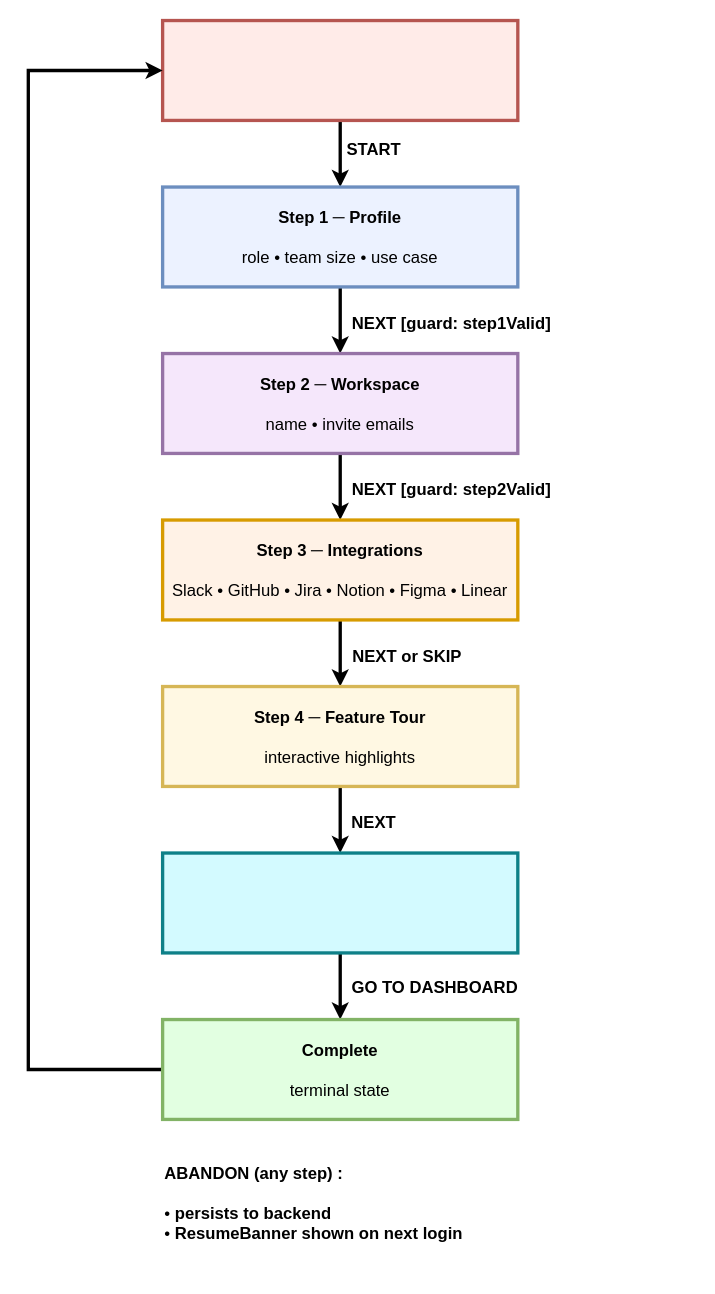
Image size: 715x1294. Some labels were removed from this diagram. Here are the shapes that lost their labels. From the top down, the box of each, then its label:
(160, 18, 519, 122): Idle (not started / unauthenticated)
(160, 851, 519, 954): Step 5 ─ Complete Screen success message and completion summary
